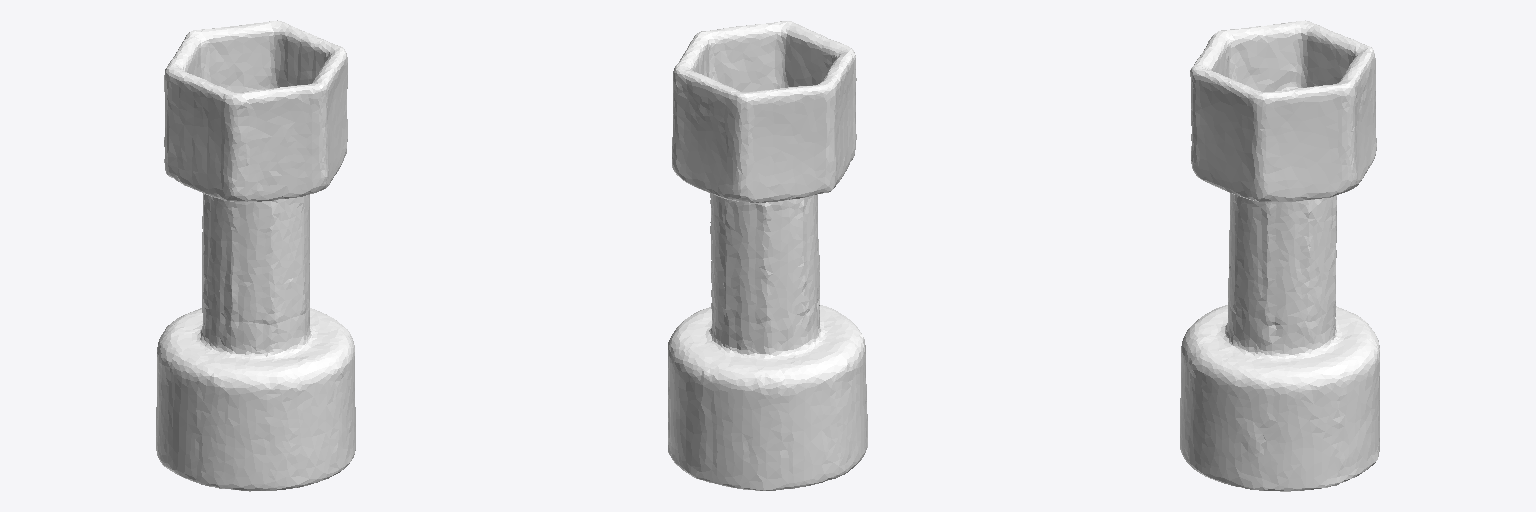
The robot description file, URDF, robot "c_toy_airplane":
<robot name="c_toy_airplane">
    <link name="base_link">
        <visual>
            <origin xyz="-0.0 -0.0 -0.0" rpy="0.0 0.0 0.0" />
            <geometry>
                <mesh filename="c_toy_airplane/textured.obj" scale="1 1 1" />
            </geometry>
            <material name="texture">
                <color rgba="1.0 1.0 1.0 1.0" />
            </material>
        </visual>
        <collision>
            <origin xyz="-0.0 -0.0 -0.0" rpy="0.0 0.0 0.0" />
            <geometry>
                <mesh filename="c_toy_airplane/textured_coacd_0.stl" scale="1 1 1" />
            </geometry>
        </collision>
        <collision>
            <origin xyz="-0.0 -0.0 -0.0" rpy="0.0 0.0 0.0" />
            <geometry>
                <mesh filename="c_toy_airplane/textured_coacd_1.stl" scale="1 1 1" />
            </geometry>
        </collision>
        <collision>
            <origin xyz="-0.0 -0.0 -0.0" rpy="0.0 0.0 0.0" />
            <geometry>
                <mesh filename="c_toy_airplane/textured_coacd_2.stl" scale="1 1 1" />
            </geometry>
        </collision>
        <collision>
            <origin xyz="-0.0 -0.0 -0.0" rpy="0.0 0.0 0.0" />
            <geometry>
                <mesh filename="c_toy_airplane/textured_coacd_3.stl" scale="1 1 1" />
            </geometry>
        </collision>
        <collision>
            <origin xyz="-0.0 -0.0 -0.0" rpy="0.0 0.0 0.0" />
            <geometry>
                <mesh filename="c_toy_airplane/textured_coacd_4.stl" scale="1 1 1" />
            </geometry>
        </collision>
        <inertial>
            <mass value="0.114" />
            <inertia ixx="1e-3" ixy="0.0" ixz="0.0" iyy="1e-3" iyz="0.0" izz="1e-3" />
        </inertial>
    </link>
</robot>

--- Facts derived from the render (not from the file) ---
Views: 3 orthographic renders of the robot side by side, from view 1: azimuth 30°, elevation 25°; view 2: azimuth 150°, elevation 25°; view 3: azimuth 270°, elevation 25°.
Robot: c_toy_airplane — 1 links, 0 joints (none); root link base_link; default pose: all joints at 0.
Links seen in each view (by area): view 1: base_link; view 2: base_link; view 3: base_link.
Boxes of the visible links, x1=… form: base_link: x1=156, y1=20, x2=355, y2=491; base_link: x1=668, y1=21, x2=867, y2=490; base_link: x1=1180, y1=20, x2=1379, y2=491.
Size in the robot's own frame: 0.0305 by 0.0305 by 0.0666 metres.
Meshes: 1 distinct files referenced, 1 mesh visuals loaded (1 OBJ).